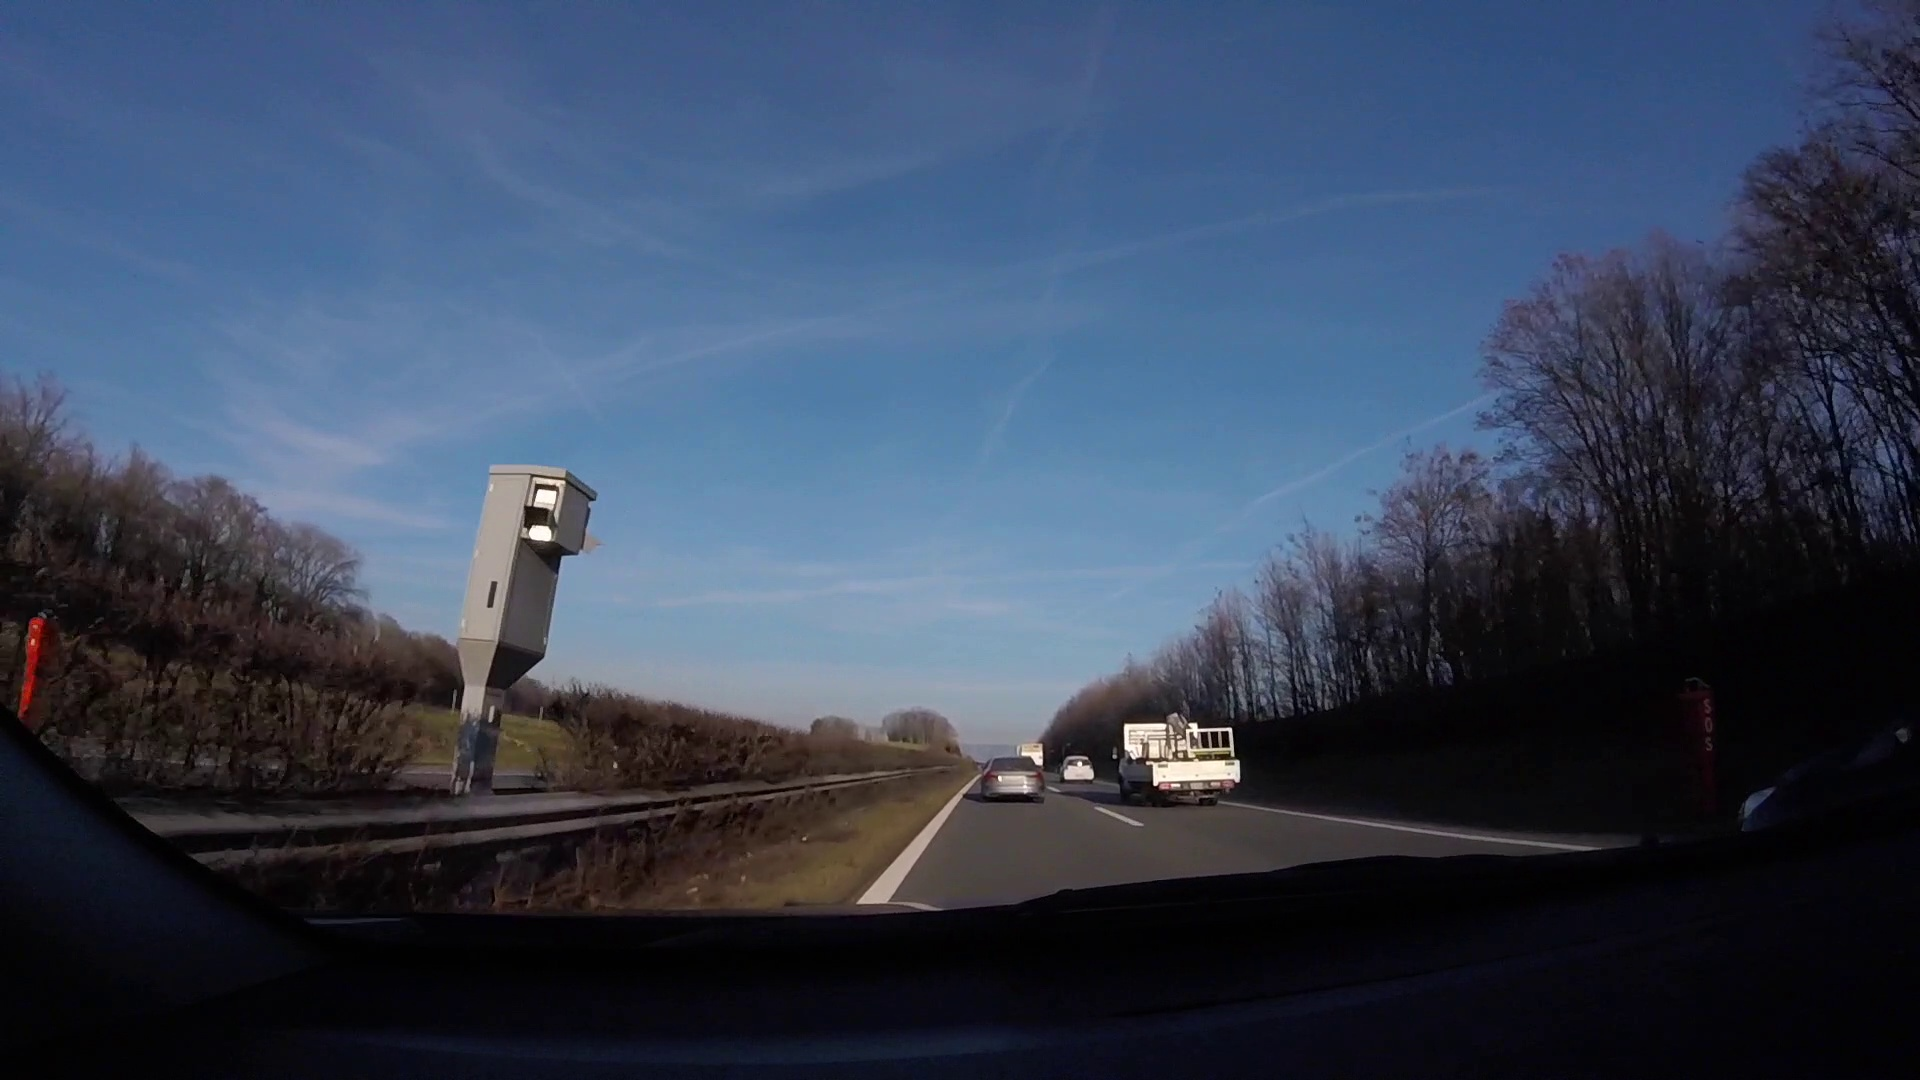radar: (454, 462, 597, 735)
